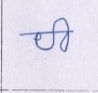i_matra: (55, 17, 69, 52)
